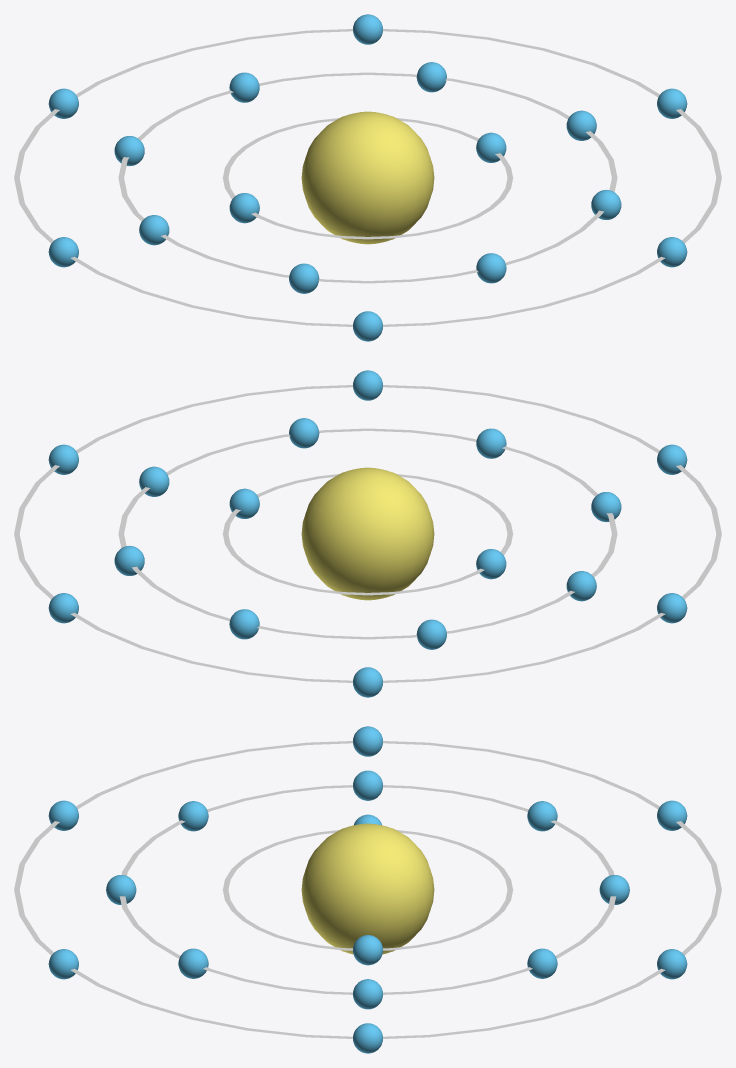
File: sulfur_atom.glb
The picture shows the model from 3 angles, top to bottom: view 1: azimuth 30°, elevation 25°; view 2: azimuth 150°, elevation 25°; view 3: azimuth 270°, elevation 25°; orthographic projection.
Visible parts, largest first — view 1: nucleus_node, shell_ring_2, shell_ring_1, shell_ring_0, electron_node_1_3, electron_node_2_2, electron_node_2_5, electron_node_1_7, electron_node_1_2, electron_node_1_6, electron_node_1_4, electron_node_0_1 (+8 smaller); view 2: nucleus_node, shell_ring_2, shell_ring_1, shell_ring_0, electron_node_1_5, electron_node_2_1, electron_node_2_4, electron_node_1_1, electron_node_1_6, electron_node_1_2, electron_node_1_4, electron_node_0_1 (+8 smaller); view 3: nucleus_node, shell_ring_2, shell_ring_1, shell_ring_0, electron_node_2_0, electron_node_2_3, electron_node_0_0, electron_node_1_0, electron_node_1_4, electron_node_1_1, electron_node_1_7, electron_node_1_3 (+7 smaller).
Part boxes in pixels (bbox=[...]): nucleus_node: bbox=[301, 111, 434, 244]; shell_ring_2: bbox=[14, 29, 721, 326]; shell_ring_1: bbox=[118, 72, 617, 283]; shell_ring_0: bbox=[223, 118, 512, 239]; electron_node_1_3: bbox=[289, 263, 319, 293]; electron_node_2_2: bbox=[353, 311, 382, 341]; electron_node_2_5: bbox=[353, 14, 382, 44]; electron_node_1_7: bbox=[416, 62, 446, 92]; electron_node_1_2: bbox=[476, 253, 506, 283]; electron_node_1_6: bbox=[229, 72, 259, 102]; electron_node_1_4: bbox=[139, 215, 169, 245]; electron_node_0_1: bbox=[229, 193, 259, 223]; nucleus_node: bbox=[301, 467, 434, 600]; shell_ring_2: bbox=[14, 385, 721, 682]; shell_ring_1: bbox=[118, 428, 617, 639]; shell_ring_0: bbox=[223, 474, 512, 595]; electron_node_1_5: bbox=[416, 619, 446, 649]; electron_node_2_1: bbox=[353, 370, 382, 400]; electron_node_2_4: bbox=[353, 667, 382, 697]; electron_node_1_1: bbox=[289, 418, 319, 448]; electron_node_1_6: bbox=[229, 609, 259, 639]; electron_node_1_2: bbox=[476, 428, 506, 458]; electron_node_1_4: bbox=[566, 571, 596, 601]; electron_node_0_1: bbox=[476, 549, 506, 579]; nucleus_node: bbox=[301, 823, 434, 954]; shell_ring_2: bbox=[14, 741, 721, 1038]; shell_ring_1: bbox=[119, 785, 616, 994]; shell_ring_0: bbox=[223, 830, 512, 950]; electron_node_2_0: bbox=[353, 1023, 382, 1053]; electron_node_2_3: bbox=[353, 726, 382, 756]; electron_node_0_0: bbox=[353, 935, 382, 965]; electron_node_1_0: bbox=[353, 979, 382, 1009]; electron_node_1_4: bbox=[353, 770, 382, 800]; electron_node_1_1: bbox=[178, 948, 208, 978]; electron_node_1_7: bbox=[527, 948, 557, 978]; electron_node_1_3: bbox=[178, 801, 208, 831].
Size of the model in its own units: 3.86 by 0.7 by 3.73.
